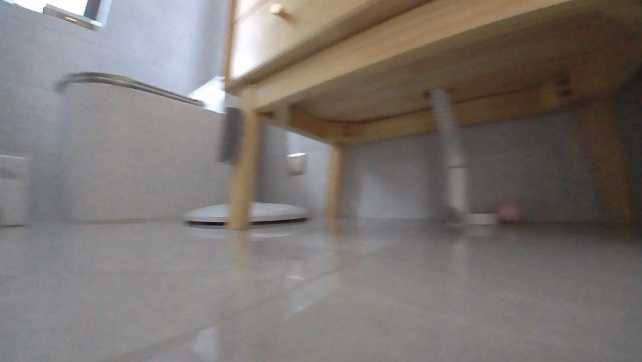toilet: (51, 68, 239, 223)
